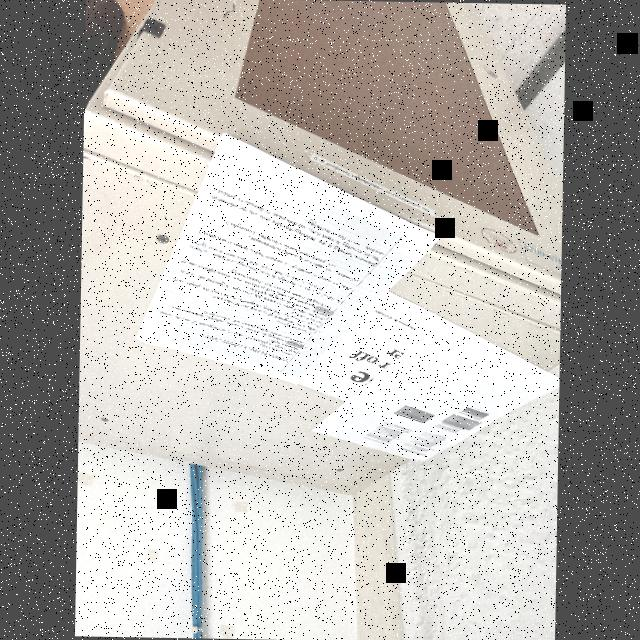reuseable_paper: (130, 126, 442, 380), (293, 295, 559, 465)
